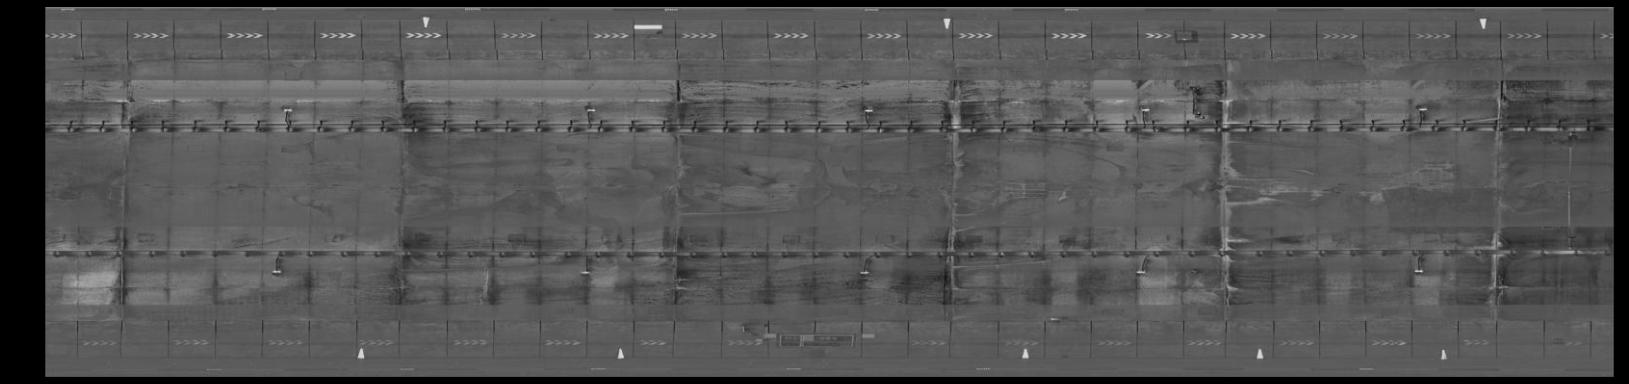light: (1403, 264, 1428, 280), (1133, 105, 1156, 116), (267, 265, 286, 278), (1130, 267, 1152, 278), (576, 267, 596, 278), (1412, 103, 1430, 115), (854, 268, 875, 278), (858, 105, 876, 116), (278, 106, 298, 115), (582, 105, 600, 114)
